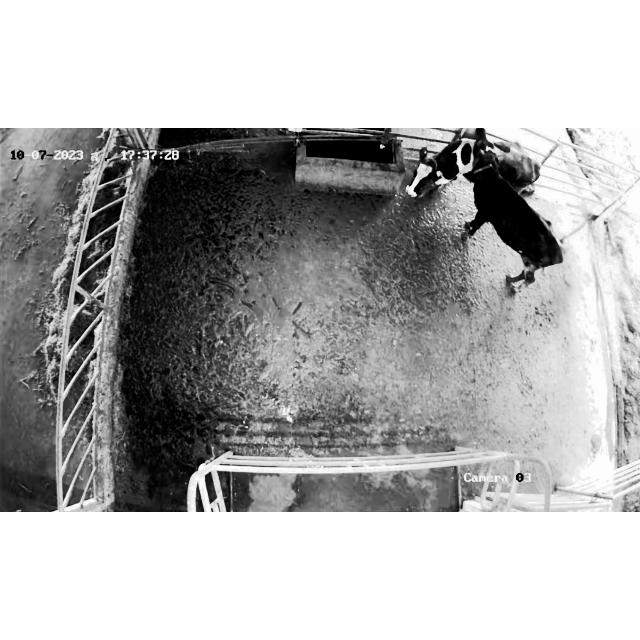propping: (451, 128, 503, 186)
